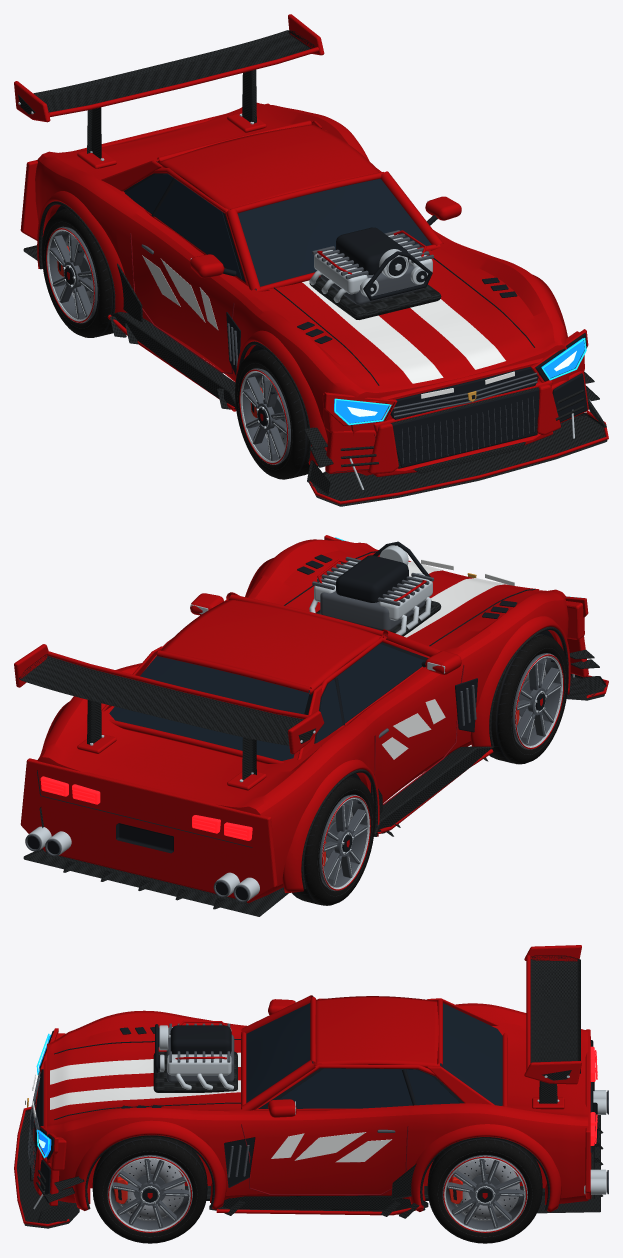
The model's file is 01_red_stripes.glb.
3 renders of one model, top to bottom at view 1: azimuth 30°, elevation 25°; view 2: azimuth 150°, elevation 25°; view 3: azimuth 270°, elevation 25°, orthographic. The views are drawn at different scales.
Visible parts, largest first — view 1: Vehicle_Static_Body, Wheel_FL_Geometry, Wheel_RL_Geometry; view 2: Vehicle_Static_Body, Wheel_FL_Geometry, Wheel_RL_Geometry; view 3: Vehicle_Static_Body, Wheel_FR_Geometry, Wheel_RR_Geometry.
Part boxes in pixels (<box>): Vehicle_Static_Body: <box>14,14,608,506</box>; Wheel_FL_Geometry: <box>235,349,318,479</box>; Wheel_RL_Geometry: <box>41,208,113,337</box>; Vehicle_Static_Body: <box>14,535,608,916</box>; Wheel_FL_Geometry: <box>489,633,568,764</box>; Wheel_RL_Geometry: <box>292,776,375,905</box>; Vehicle_Static_Body: <box>14,945,608,1228</box>; Wheel_FR_Geometry: <box>92,1136,207,1243</box>; Wheel_RR_Geometry: <box>427,1138,542,1243</box>.
Bounding box in the file's own units: 2.48 × 1.74 × 5.08.
18 materials, 3 textured.
